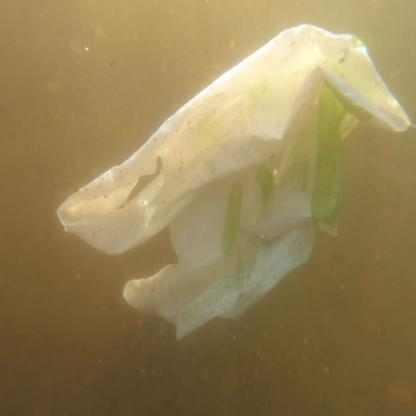Rác: (76, 23, 398, 342)
